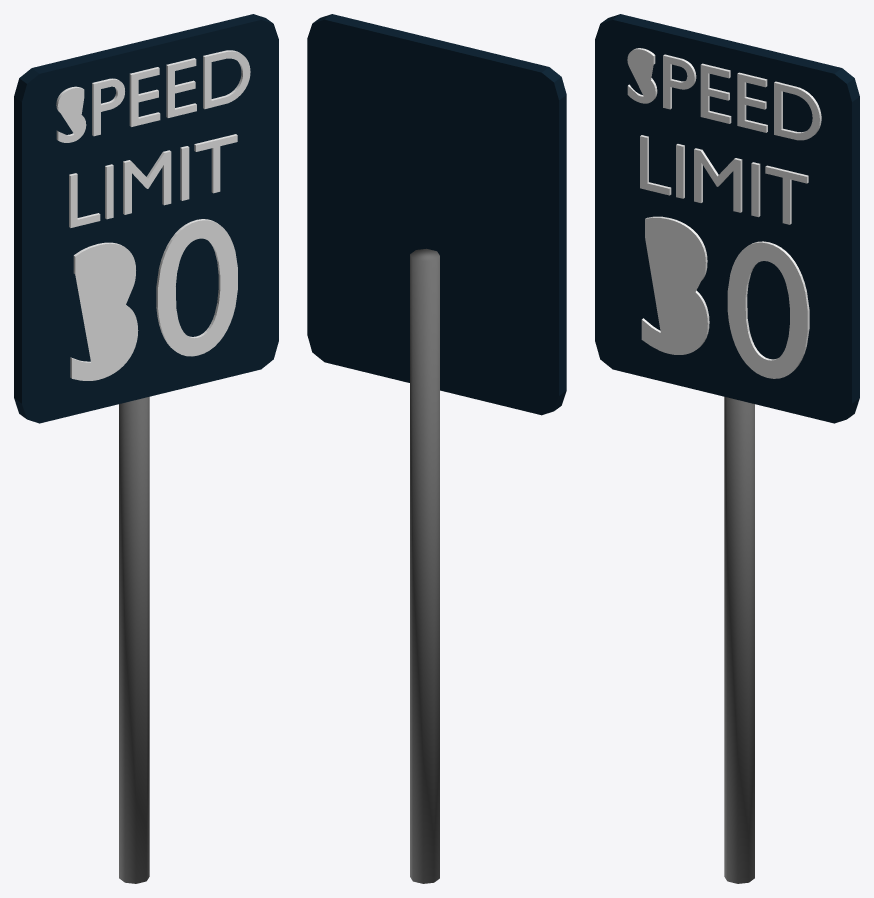
File: Prop_StreetSign_Speed_30.fbx
3 views of the same model, side by side, from view 1: azimuth 30°, elevation 25°; view 2: azimuth 150°, elevation 25°; view 3: azimuth 330°, elevation 25° (orthographic). The views are drawn at different scales.
Parts seen in each view (by area): view 1: Prop_StreetSign_Speed_30; view 2: Prop_StreetSign_Speed_30; view 3: Prop_StreetSign_Speed_30.
Boxes of the visible parts, <box> form: Prop_StreetSign_Speed_30: <box>14,14,278,883</box>; Prop_StreetSign_Speed_30: <box>307,14,566,883</box>; Prop_StreetSign_Speed_30: <box>595,14,859,883</box>.
Bounding box in the file's own units: 140 × 438 × 23.65.
